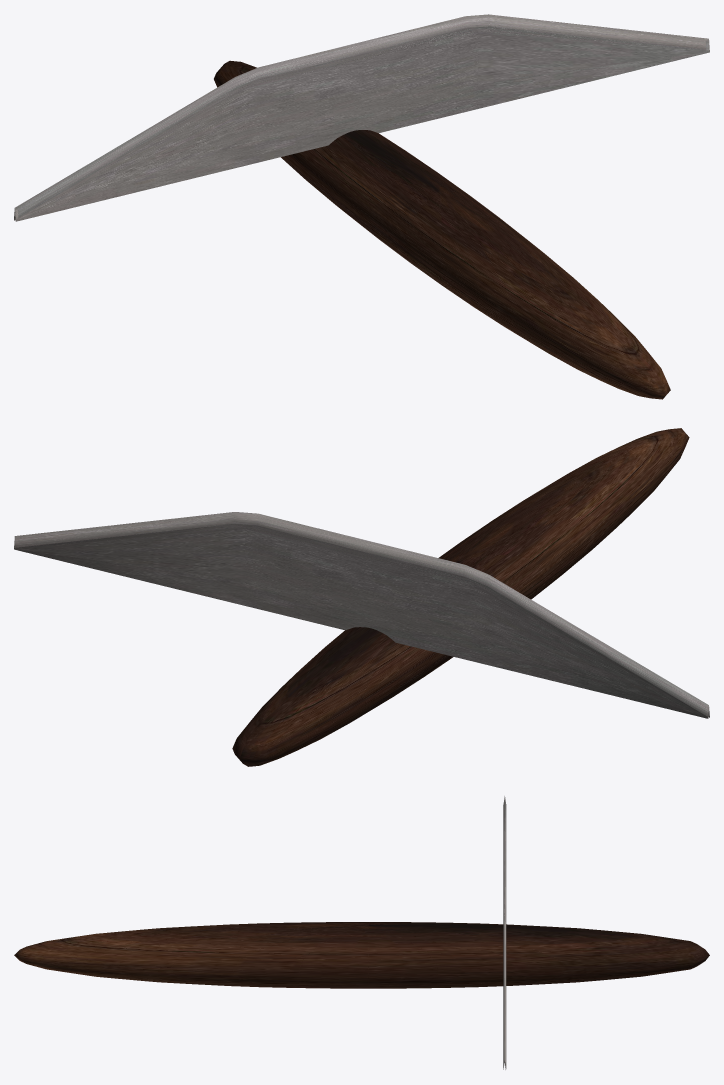
The model's file is handknife.FBX.
The picture shows the model from 3 angles, top to bottom: view 1: azimuth 30°, elevation 25°; view 2: azimuth 150°, elevation 25°; view 3: azimuth 270°, elevation 25°; orthographic projection. The views are drawn at different scales.
Parts seen in each view (by area): view 1: Box001, Sphere001; view 2: Box001, Sphere001; view 3: Sphere001, Box001.
Boxes of the visible parts, left/top/right/bottom form: Box001: left=14, top=14, right=709, bottom=221; Sphere001: left=214, top=60, right=670, bottom=399; Box001: left=14, top=512, right=709, bottom=718; Sphere001: left=232, top=428, right=689, bottom=766; Sphere001: left=14, top=922, right=709, bottom=988; Box001: left=503, top=796, right=506, bottom=1069.
Size of the model in its own units: 26.8 by 5.87 by 29.78.
